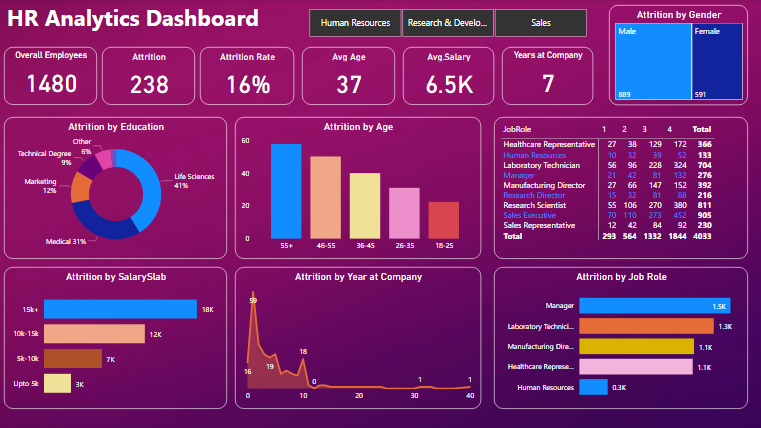

What the dashboard file says about the page in this screenshot:
{"tool":"powerbi","page":{"name":"Page 1","canvas":[1280,720],"ordinal":0},"visuals":[{"type":"textbox","box":[10.1,0,486.5,80.5],"z":0},{"type":"card","title":"Overall Employees","fields":{"Values":["CountNonNull(HR_Analytics.EmpID)"]},"box":[10.1,80.5,156,97.3],"z":1000},{"type":"card","title":"Attrition","fields":{"Values":["Sum(HR_Analytics.AttritionCount)"]},"box":[174.5,80.5,156,97.3],"z":2000},{"type":"card","title":"Attrition Rate","fields":{"Values":["HR_Analytics.attritionRate"]},"box":[338.9,80.5,157.7,97.3],"z":3000},{"type":"card","title":"Avg Age","fields":{"Values":["Avg(HR_Analytics.Age)"]},"box":[510,80.5,156,97.3],"z":4000},{"type":"card","title":"Avg.Salary","fields":{"Values":["Avg(HR_Analytics.MonthlyIncome)"]},"box":[679.4,80.5,152.7,97.3],"z":5000},{"type":"card","title":"Years at Company","fields":{"Values":["Avg(HR_Analytics.YearsAtCompany)"]},"box":[845.5,80.5,152.7,97.3],"z":6000},{"type":"slicer","fields":{"Values":["HR_Analytics.Department"]},"box":[496.6,10.1,515,60.4],"z":7000},{"type":"treemap","title":"Attrition by Gender","fields":{"Group":["HR_Analytics.Gender"],"Values":["CountNonNull(HR_Analytics.Attrition)"]},"box":[1025,10.1,233.2,167.8],"z":8000},{"type":"donutChart","title":"Attrition by Education","fields":{"Category":["HR_Analytics.EducationField"],"Y":["Sum(HR_Analytics.Education)"]},"box":[10.1,198,374.1,238.2],"z":9000},{"type":"clusteredColumnChart","title":"Attrition by Age","fields":{"Y":["Avg(HR_Analytics.Age)"],"Category":["HR_Analytics.AgeGroup"]},"box":[397.6,198,412.7,238.2],"z":10000},{"type":"pivotTable","fields":{"Rows":["HR_Analytics.JobRole"],"Values":["Sum(HR_Analytics.JobSatisfaction)"],"Columns":["HR_Analytics.JobSatisfaction"]},"box":[832.1,198,426.1,238.2],"z":11000},{"type":"clusteredBarChart","title":"Attrition by SalarySlab","fields":{"Category":["HR_Analytics.SalarySlab"],"Y":["Avg(HR_Analytics.MonthlyIncome)"]},"box":[10,449,374,238],"z":12000},{"type":"areaChart","title":"Attrition by Year at Company","fields":{"Category":["HR_Analytics.YearsAtCompany"],"Y":["Sum(HR_Analytics.AttritionCount)"]},"box":[398,449,413,238],"z":13000},{"type":"clusteredBarChart","title":"Attrition by Job Role","fields":{"Category":["HR_Analytics.JobRole"],"Y":["Sum(HR_Analytics.YearsAtCompany)"]},"box":[832.1,449.6,426.1,238.2],"z":14000}]}

Visuals, with their boxes in screenshot pixels (x1, y1, x2, y2), scaled from the page's 1280x720 canvas onto the 761x428 screenshot:
textbox: select_region(6, 0, 295, 48)
"Overall Employees" card: select_region(6, 48, 99, 106)
"Attrition" card: select_region(104, 48, 196, 106)
"Attrition Rate" card: select_region(201, 48, 295, 106)
"Avg Age" card: select_region(303, 48, 396, 106)
"Avg.Salary" card: select_region(404, 48, 495, 106)
"Years at Company" card: select_region(503, 48, 593, 106)
slicer - HR_Analytics.Department: select_region(295, 6, 601, 42)
"Attrition by Gender" treemap: select_region(609, 6, 748, 106)
"Attrition by Education" donutChart: select_region(6, 118, 228, 259)
"Attrition by Age" clusteredColumnChart: select_region(236, 118, 482, 259)
pivotTable - HR_Analytics.JobRole x Sum(HR_Analytics.JobSatisfaction): select_region(495, 118, 748, 259)
"Attrition by SalarySlab" clusteredBarChart: select_region(6, 267, 228, 408)
"Attrition by Year at Company" areaChart: select_region(237, 267, 482, 408)
"Attrition by Job Role" clusteredBarChart: select_region(495, 267, 748, 409)
